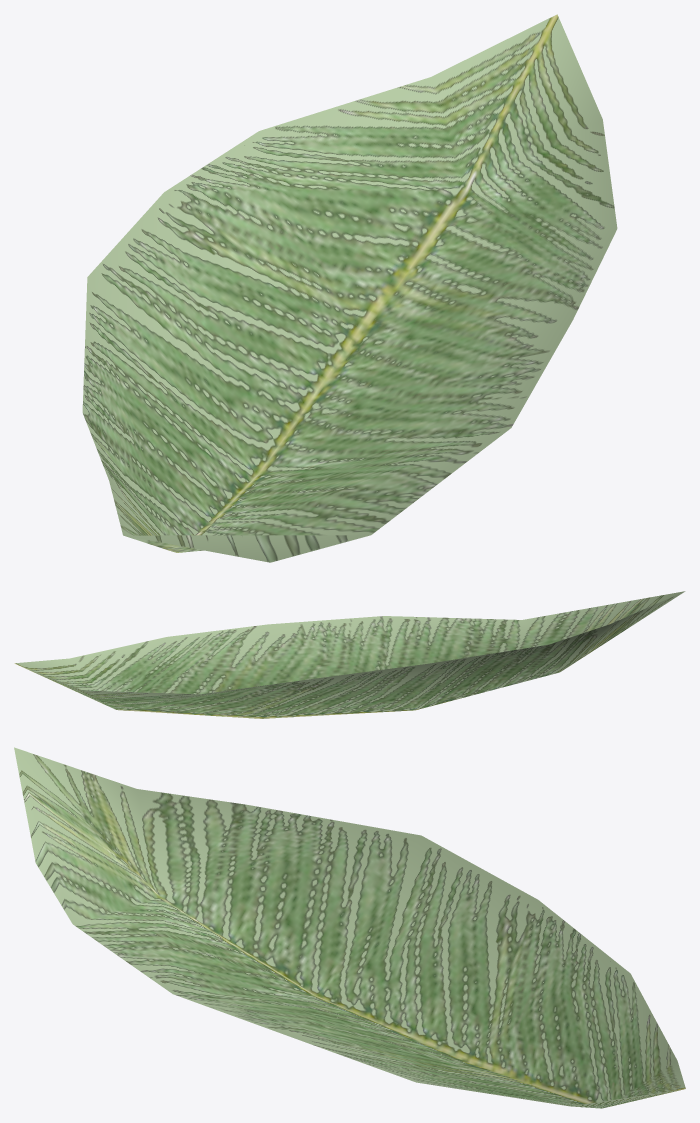
File: leaf.obj
The picture shows the model from 3 angles, top to bottom: view 1: azimuth 30°, elevation 25°; view 2: azimuth 150°, elevation 25°; view 3: azimuth 270°, elevation 25°; orthographic projection. The views are drawn at different scales.
Visible parts, largest first — view 1: PalmTree-Fronds.007_palm-fronds.007; view 2: PalmTree-Fronds.007_palm-fronds.007; view 3: PalmTree-Fronds.007_palm-fronds.007.
Boxes of the visible parts, x1,y1,x2,y2 form: PalmTree-Fronds.007_palm-fronds.007: (82, 14, 617, 562); PalmTree-Fronds.007_palm-fronds.007: (14, 591, 685, 718); PalmTree-Fronds.007_palm-fronds.007: (14, 747, 685, 1108).
Size of the model in its own units: 2.47 by 0.455 by 2.19.
1 material, 1 textured.
